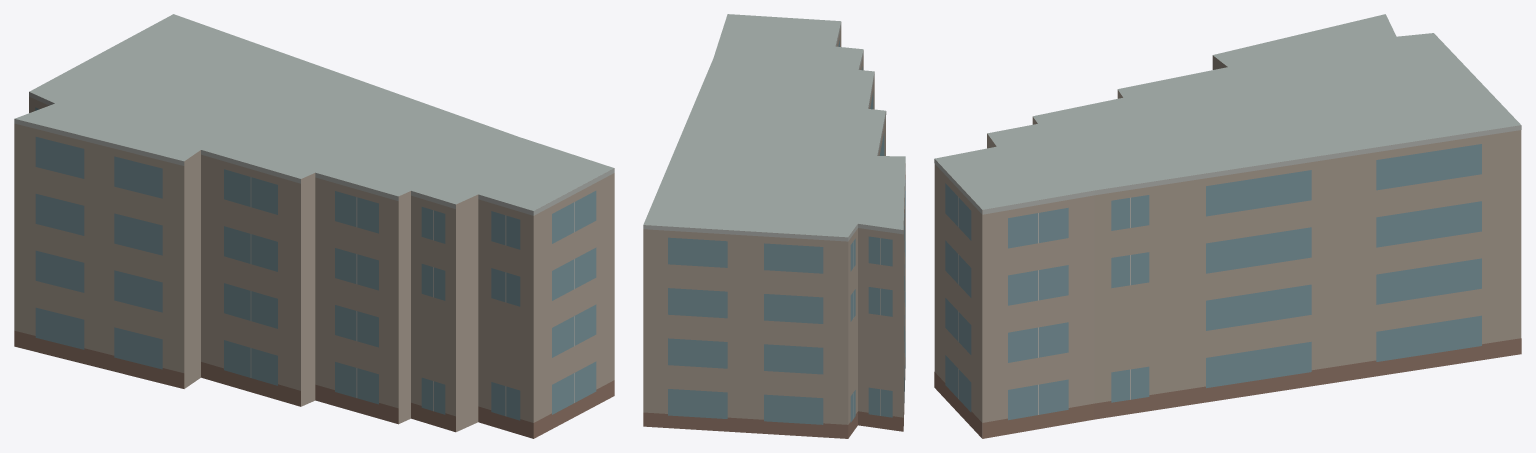
File: survey-upis-32517595.glb
3 renders of one model, left to right at view 1: azimuth 30°, elevation 25°; view 2: azimuth 150°, elevation 25°; view 3: azimuth 270°, elevation 25°, orthographic. The views are drawn at different scales.
Visible parts, largest first — view 1: survey-upis-32517595.tmp; view 2: survey-upis-32517595.tmp; view 3: survey-upis-32517595.tmp.
Boxes of the visible parts, x1,y1,x2,y2 form: survey-upis-32517595.tmp: (14,14,614,438); survey-upis-32517595.tmp: (643,14,905,438); survey-upis-32517595.tmp: (934,14,1521,438).
Size of the model in its own units: 21.3 by 11.6 by 26.96.
